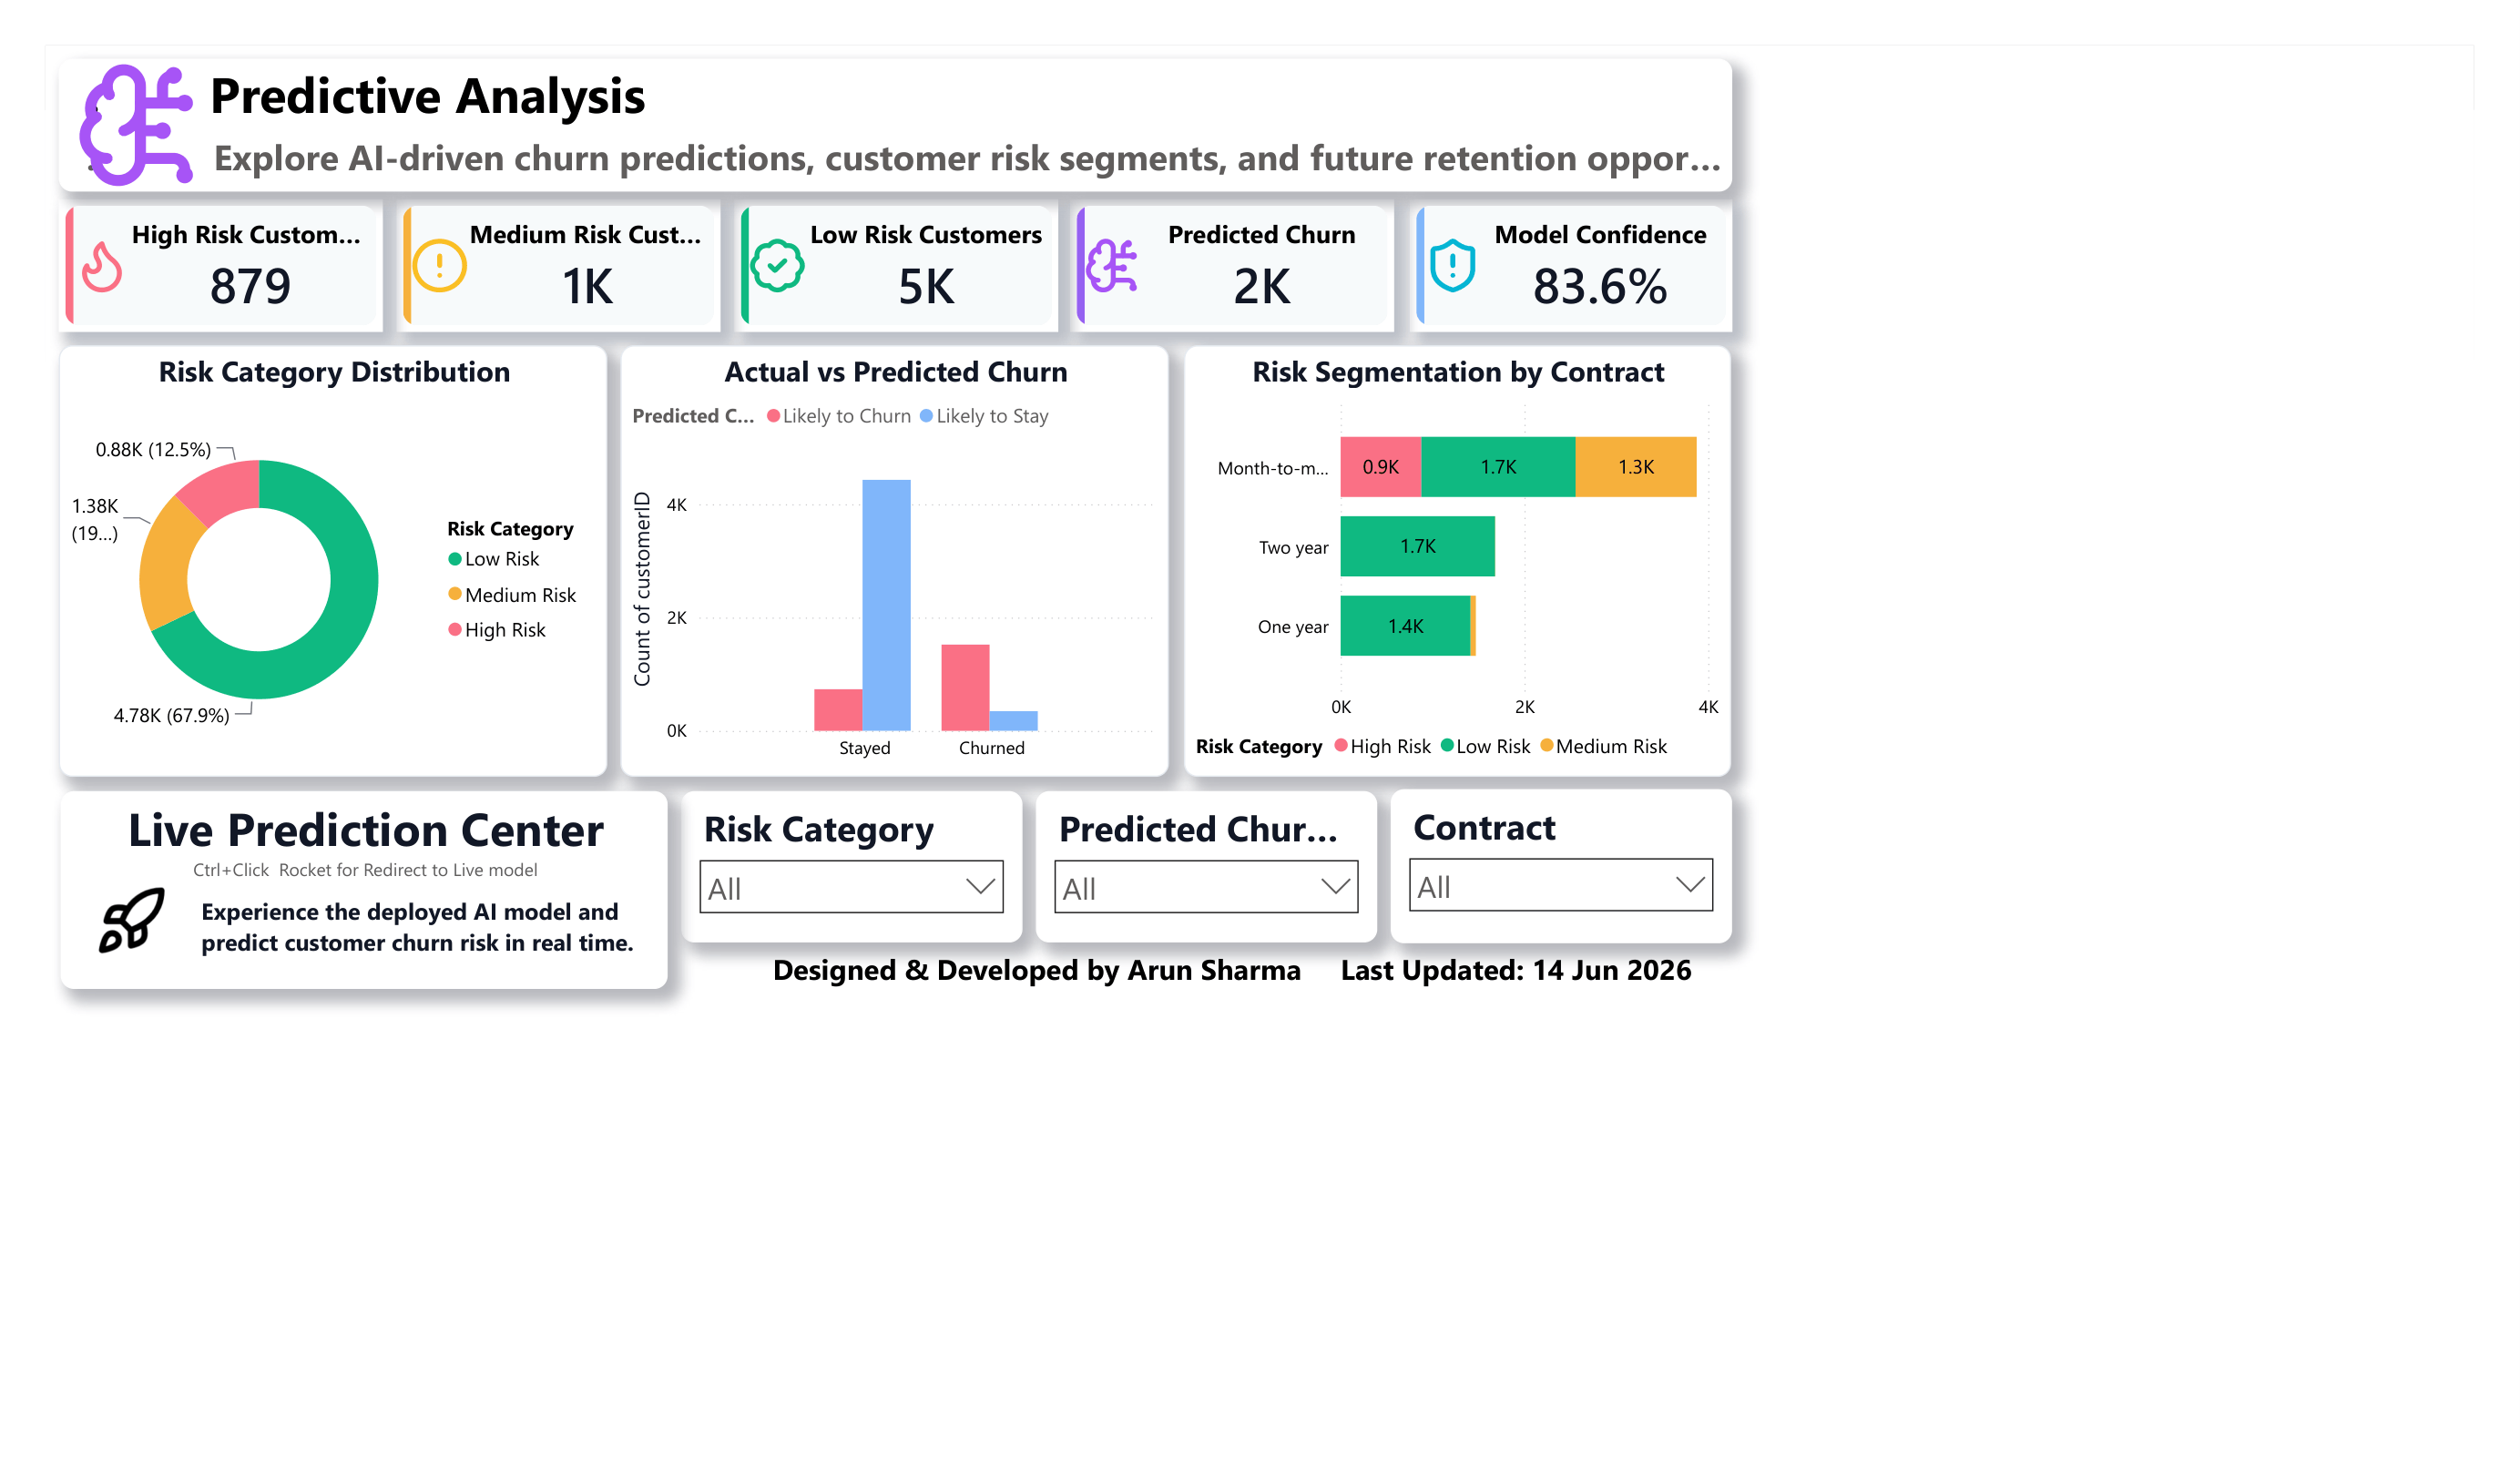

What the dashboard file says about the page in this screenshot:
{"tool":"powerbi","page":{"name":"Predictive Analytics","canvas":[1280,720],"ordinal":2},"visuals":[{"type":"group","id":"g1","title":"Group 1","box":[10,9.4,1260,100.6],"z":0},{"type":"textbox","title":".        Predictive Analysis","box":[10,10,1260,100],"z":0,"group":"g1"},{"type":"image","box":[12,9.4,120,100],"z":1000,"group":"g1"},{"type":"cardVisual","fields":{"Data":["Measures_Table.High Risk Customers"]},"box":[10,115,244,100],"z":1000},{"type":"cardVisual","fields":{"Data":["Measures_Table.Medium Risk Customers"]},"box":[264,115,244,100],"z":2000},{"type":"cardVisual","fields":{"Data":["Measures_Table.Low Risk Customers"]},"box":[518,116,244,100],"z":3000},{"type":"cardVisual","fields":{"Data":["Measures_Table.Predicted Churn"]},"box":[772,115,244,100],"z":4000},{"type":"cardVisual","fields":{"Data":["Measures_Table.Model Confidence"]},"box":[1026.7,115,243.3,100],"z":5000},{"type":"donutChart","title":"Risk Category Distribution","fields":{"Category":["Telco_Customer_Predictions.Risk Category"],"Y":["CountNonNull(Telco_Customer_Predictions.customerID)"]},"box":[10,225,413.3,325],"z":6000},{"type":"clusteredColumnChart","title":"Actual vs Predicted Churn","fields":{"Category":["Telco_Customer_Predictions.Actual Churn Status"],"Series":["Telco_Customer_Predictions.Predicted Churn Status"],"Y":["CountNonNull(Telco_Customer_Predictions.customerID)"]},"box":[433.3,225,413.3,325],"z":7000},{"type":"barChart","title":"Risk Segmentation by Contract","fields":{"Category":["Telco_Customer_Predictions.Contract"],"Y":["CountNonNull(Telco_Customer_Predictions.customerID)"],"Series":["Telco_Customer_Predictions.Risk Category"]},"box":[856.7,225,411.7,325],"z":8000},{"type":"slicer","fields":{"Values":["Telco_Customer_Predictions.Risk Category"]},"box":[478.6,561.4,257.1,114.3],"z":9000},{"type":"slicer","fields":{"Values":["Telco_Customer_Predictions.Predicted Churn Status"]},"box":[745.7,561.4,257.1,114.3],"z":10000},{"type":"slicer","fields":{"Values":["Telco_Customer_Predictions.Contract"]},"box":[1012.9,560,257.1,115.7],"z":11000},{"type":"textbox","box":[478.6,675.7,801.4,44.3],"z":14000},{"type":"actionButton","title":"Live Prediction Center","box":[11.4,561.4,457.1,148.6],"z":14001}]}

Visuals, with their boxes on the page's 1280x720 design canvas (x1, y1, x2, y2). These are canvas units, not pixel positions in the 2520x1457 screenshot, which may show the page scaled, cropped or inside an application window:
"Group 1" group: left=10, top=9, right=1270, bottom=110
".        Predictive Analysis" textbox: left=10, top=10, right=1270, bottom=110
image: left=12, top=9, right=132, bottom=109
cardVisual - Measures_Table.High Risk Customers: left=10, top=115, right=254, bottom=215
cardVisual - Measures_Table.Medium Risk Customers: left=264, top=115, right=508, bottom=215
cardVisual - Measures_Table.Low Risk Customers: left=518, top=116, right=762, bottom=216
cardVisual - Measures_Table.Predicted Churn: left=772, top=115, right=1016, bottom=215
cardVisual - Measures_Table.Model Confidence: left=1027, top=115, right=1270, bottom=215
"Risk Category Distribution" donutChart: left=10, top=225, right=423, bottom=550
"Actual vs Predicted Churn" clusteredColumnChart: left=433, top=225, right=847, bottom=550
"Risk Segmentation by Contract" barChart: left=857, top=225, right=1268, bottom=550
slicer - Telco_Customer_Predictions.Risk Category: left=479, top=561, right=736, bottom=676
slicer - Telco_Customer_Predictions.Predicted Churn Status: left=746, top=561, right=1003, bottom=676
slicer - Telco_Customer_Predictions.Contract: left=1013, top=560, right=1270, bottom=676
textbox: left=479, top=676, right=1280, bottom=720
"Live Prediction Center" actionButton: left=11, top=561, right=468, bottom=710
